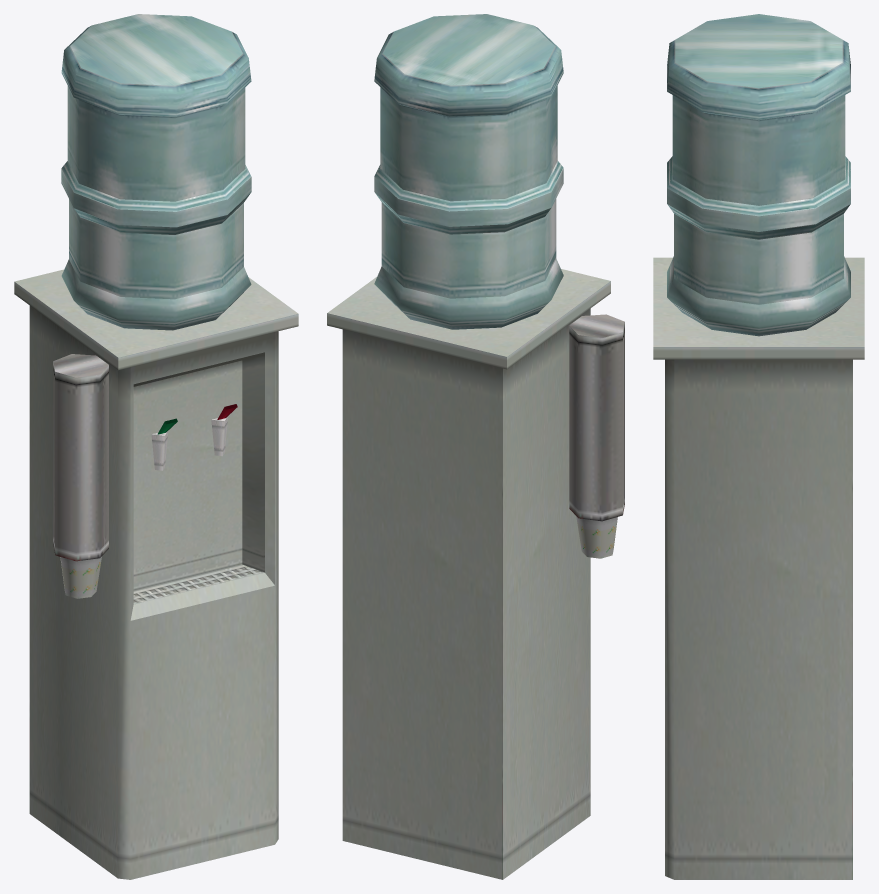
File: water_cooler.fbx
3 views of the same model, side by side, from view 1: azimuth 30°, elevation 25°; view 2: azimuth 150°, elevation 25°; view 3: azimuth 270°, elevation 25° (orthographic).
Visible parts, largest first — view 1: mesh_2, mesh_0; view 2: mesh_2, mesh_0; view 3: mesh_2, mesh_0.
Boxes of the visible parts, bbox=[...] form: mesh_2: bbox=[14, 269, 298, 879]; mesh_0: bbox=[61, 14, 251, 330]; mesh_2: bbox=[327, 269, 624, 879]; mesh_0: bbox=[374, 14, 563, 329]; mesh_2: bbox=[653, 257, 864, 879]; mesh_0: bbox=[667, 14, 850, 336].
Size of the model in its own units: 43.42 by 148 by 35.93.
1 material, 1 textured.
